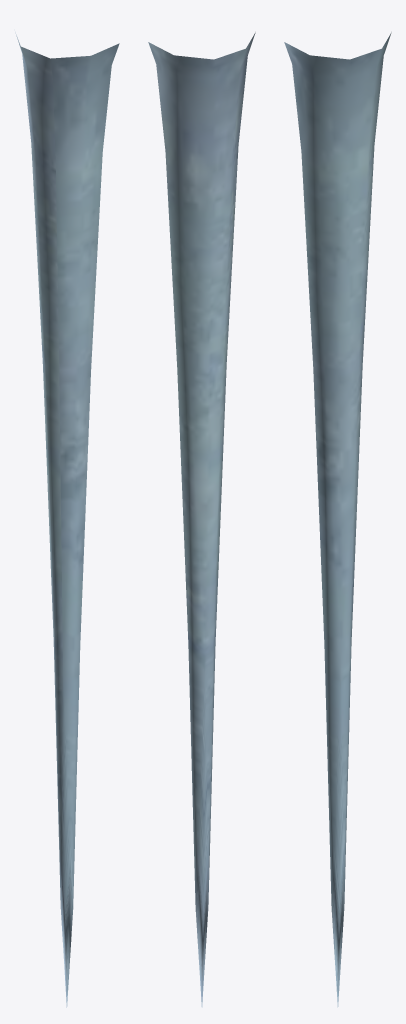
Rendered from tesv_caveiiciclelarge01-transformed.glb.
3 renders of one model, left to right at view 1: azimuth 30°, elevation 25°; view 2: azimuth 150°, elevation 25°; view 3: azimuth 330°, elevation 25°, orthographic.
Visible parts, largest first — view 1: caveiiciclelarge01; view 2: caveiiciclelarge01; view 3: caveiiciclelarge01.
Part boxes in pixels (box(x1,y1,x2,y2)): caveiiciclelarge01: box(15, 32, 119, 1007); caveiiciclelarge01: box(148, 32, 255, 1007); caveiiciclelarge01: box(284, 32, 391, 1007).
Bounding box in the file's own units: 0.409 × 4.22 × 0.409.
1 material, 1 textured.
